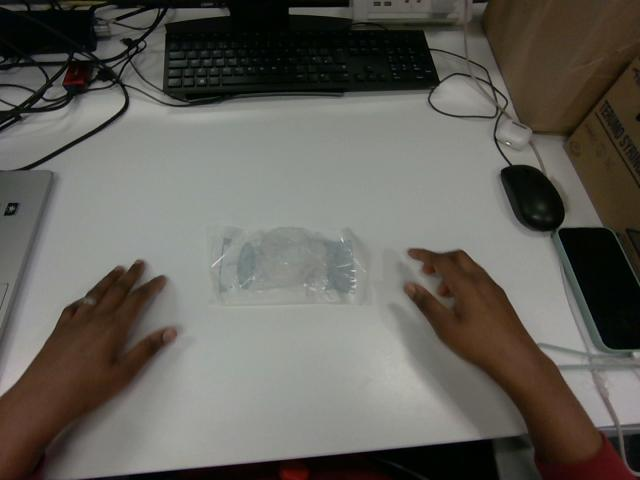gallipot: (210, 227, 366, 304)
